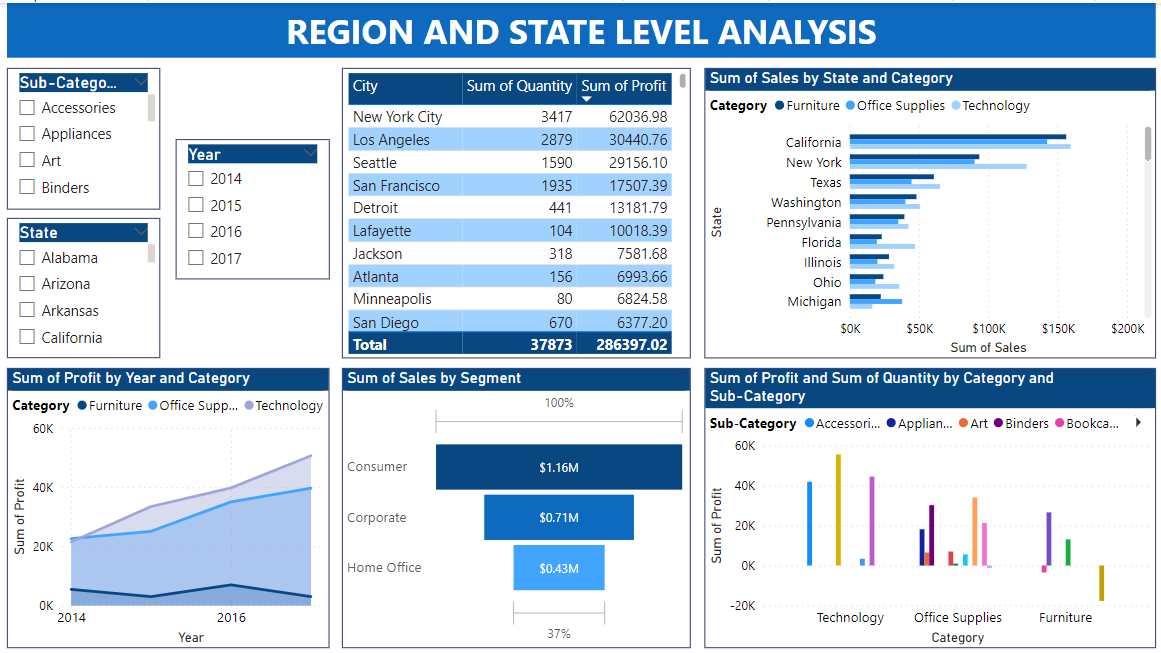

Layout of this report page (visuals, bound fields, positions):
{"tool":"powerbi","page":{"name":"Region and State","canvas":[1280,720],"ordinal":1},"visuals":[{"type":"slicer","fields":{"Values":["Orders.Sub-Category"]},"box":[11,71.3,168,154.9],"z":0},{"type":"textbox","box":[11,0,1260,60.3],"z":1000},{"type":"slicer","fields":{"Values":["Orders.Year"]},"box":[196.1,149.4,168.6,153.6],"z":2000},{"type":"slicer","fields":{"Values":["Orders.State"]},"box":[11,235.8,168,153.6],"z":3000},{"type":"tableEx","fields":{"Values":["Orders.City","Sum(Orders.Quantity)","Sum(Orders.Profit)"]},"box":[378.4,71.3,382.5,318.1],"z":4000},{"type":"clusteredBarChart","fields":{"Category":["Orders.State"],"Series":["Orders.Category"],"Y":["Sum(Orders.Sales)"]},"box":[776,71.3,494.9,318.1],"z":4001},{"type":"areaChart","fields":{"Category":["Orders.Year"],"Series":["Orders.Category"],"Y":["Sum(Orders.Profit)"]},"box":[11,400.3,353.7,307.1],"z":4002},{"type":"lineClusteredColumnComboChart","fields":{"Category":["Orders.Category"],"Series":["Orders.Sub-Category"],"Y":["Sum(Orders.Profit)"]},"box":[776,400.3,494.9,307.1],"z":4003},{"type":"funnel","fields":{"Category":["Orders.Segment"],"Y":["Sum(Orders.Sales)"]},"box":[378.4,400.3,382.5,307.1],"z":4004}]}

Visuals, with their boxes in screenshot pixels (x1, y1, x2, y2), scaled from the page's 1280x720 canvas onto the 1161x653 screenshot:
slicer - Orders.Sub-Category: pyautogui.locateOnScreen(10, 65, 162, 205)
textbox: pyautogui.locateOnScreen(10, 0, 1153, 55)
slicer - Orders.Year: pyautogui.locateOnScreen(178, 135, 331, 275)
slicer - Orders.State: pyautogui.locateOnScreen(10, 214, 162, 353)
tableEx - Orders.City x Sum(Orders.Quantity): pyautogui.locateOnScreen(343, 65, 690, 353)
clusteredBarChart - Orders.State x Orders.Category: pyautogui.locateOnScreen(704, 65, 1153, 353)
areaChart - Orders.Year x Orders.Category: pyautogui.locateOnScreen(10, 363, 331, 642)
lineClusteredColumnComboChart - Orders.Category x Orders.Sub-Category: pyautogui.locateOnScreen(704, 363, 1153, 642)
funnel - Orders.Segment x Sum(Orders.Sales): pyautogui.locateOnScreen(343, 363, 690, 642)
